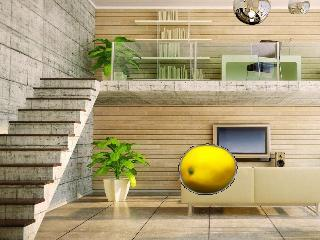lemon: (180, 146, 234, 193)
